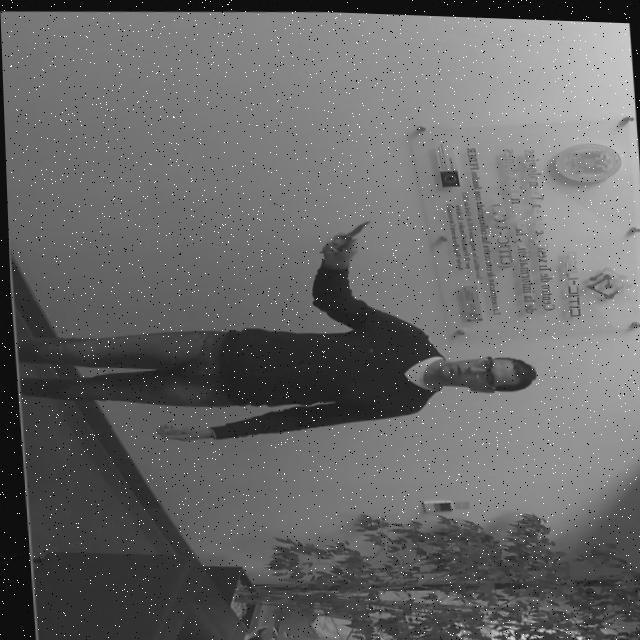knife: (315, 216, 371, 253)
